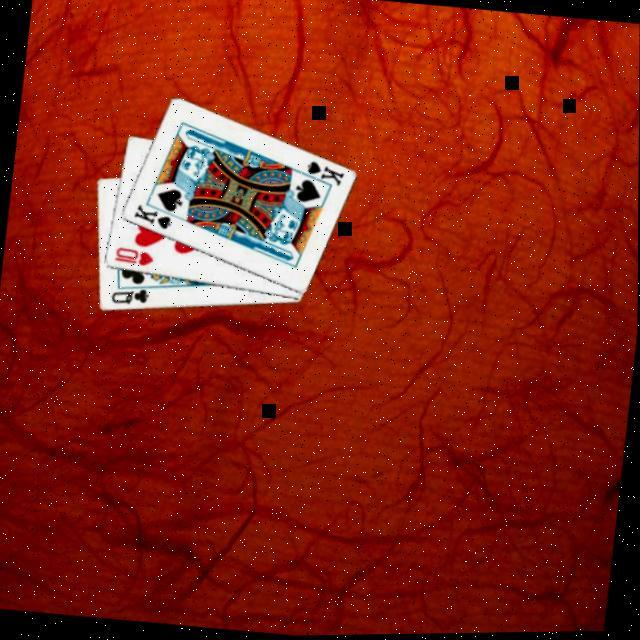10H: (113, 242, 159, 269)
KS: (297, 155, 349, 191), (131, 198, 177, 231)
QC: (110, 282, 154, 309)
